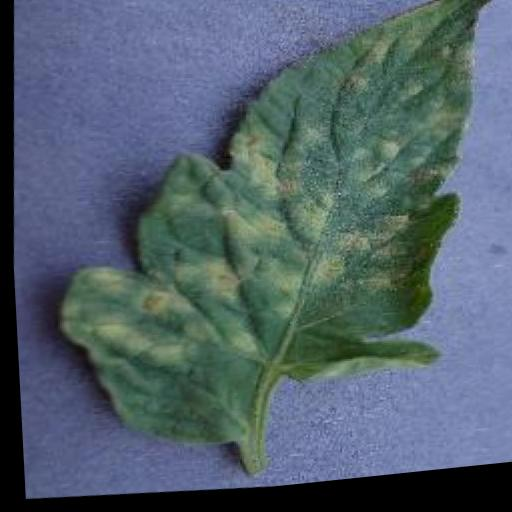Leaf Mold: (40, 0, 512, 477)
